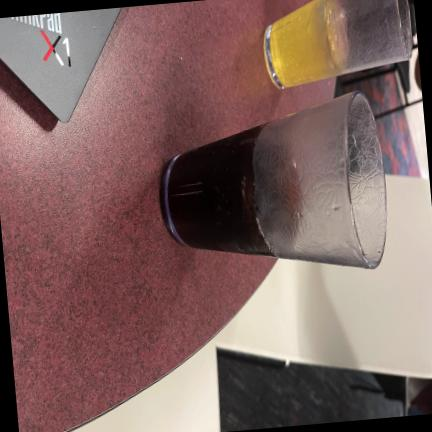container: (160, 92, 386, 268), (262, 0, 411, 88)
fluid: (166, 126, 274, 256), (268, 0, 337, 87)
fluid-surface: (252, 128, 298, 255), (325, 0, 347, 73)
